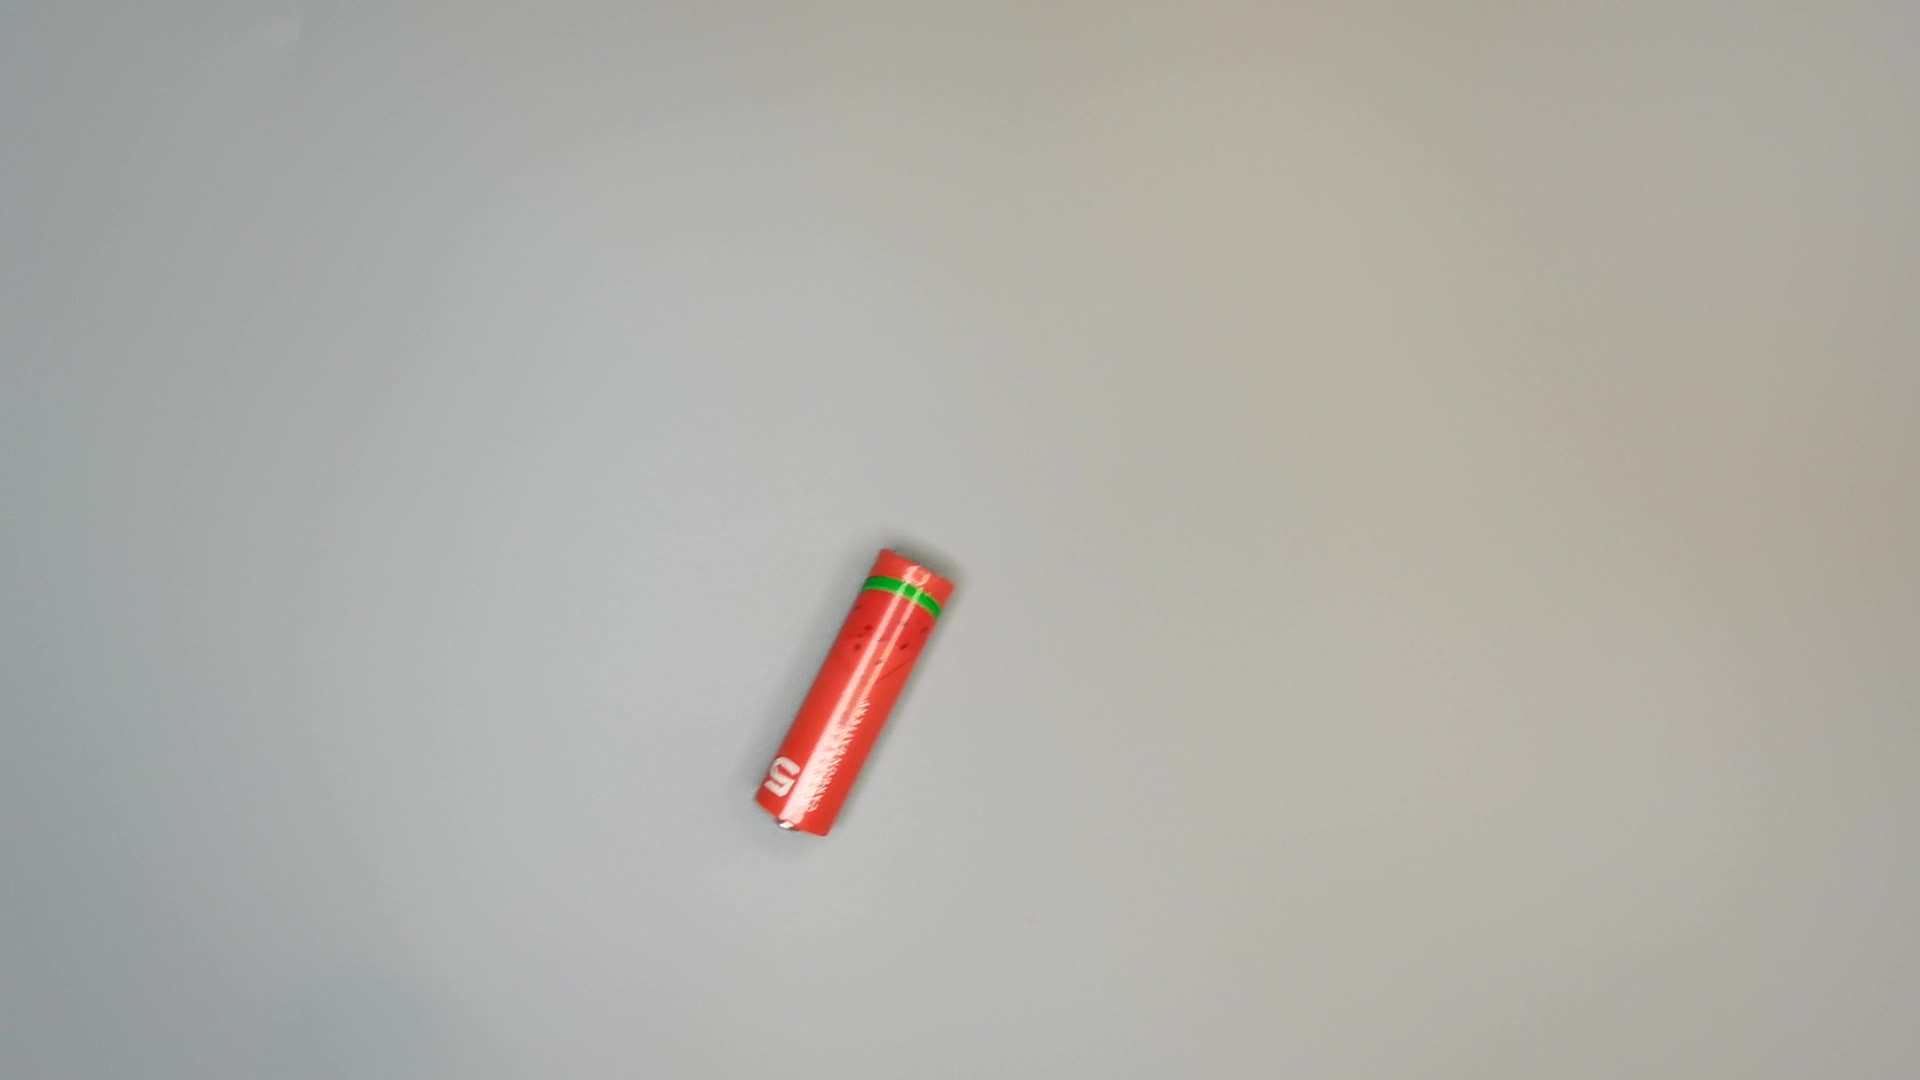battery: (742, 543, 959, 843)
